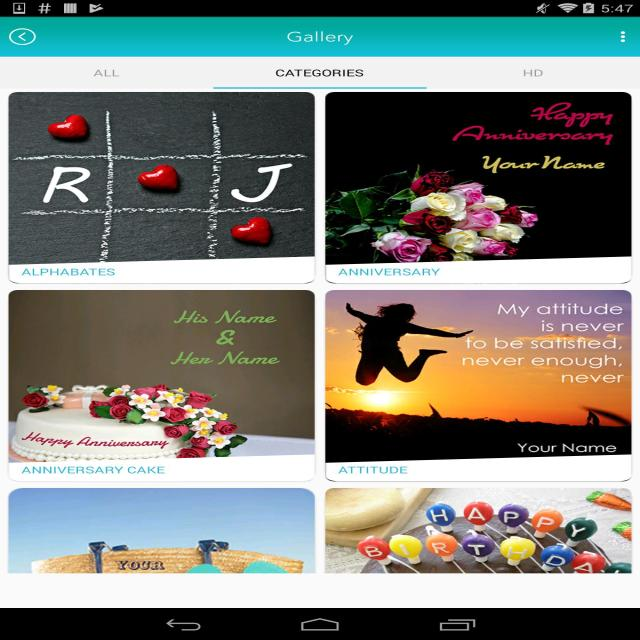button: (325, 288, 633, 482), (8, 289, 315, 482), (10, 90, 316, 282), (327, 91, 630, 284), (212, 62, 427, 87), (450, 62, 627, 87), (37, 60, 182, 86), (6, 27, 41, 47), (616, 27, 634, 48)
heading: (287, 29, 356, 47)
image: (326, 291, 634, 462), (9, 92, 314, 264), (9, 290, 314, 462), (327, 91, 628, 263), (8, 486, 316, 574), (327, 487, 630, 574)
text: (18, 466, 171, 476), (19, 267, 117, 278), (335, 267, 448, 276), (334, 465, 408, 475)
